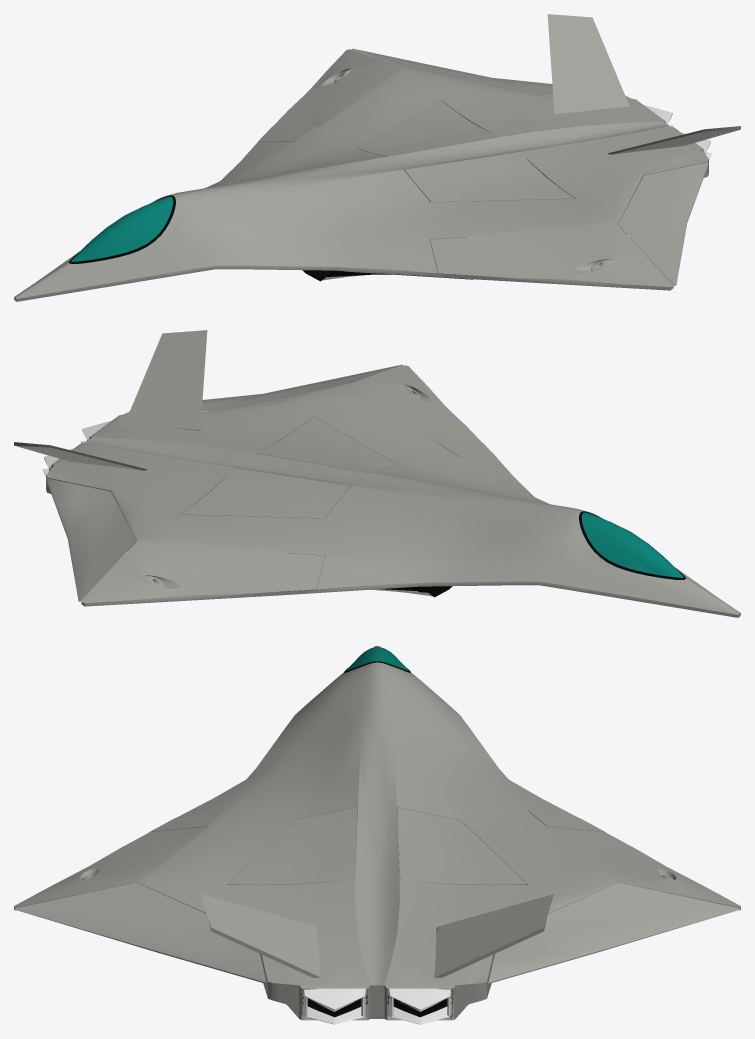
The model's file is jato.fbx.
3 renders of one model, top to bottom at view 1: azimuth 30°, elevation 25°; view 2: azimuth 150°, elevation 25°; view 3: azimuth 270°, elevation 25°, orthographic. The views are drawn at different scales.
Parts seen in each view (by area): view 1: Cube; view 2: Cube; view 3: Cube.
Boxes of the visible parts, <box> form: Cube: <box>14,14,740,301</box>; Cube: <box>14,330,740,617</box>; Cube: <box>14,646,740,1024</box>.
Bounding box in the file's own units: 205 × 30.28 × 170.
